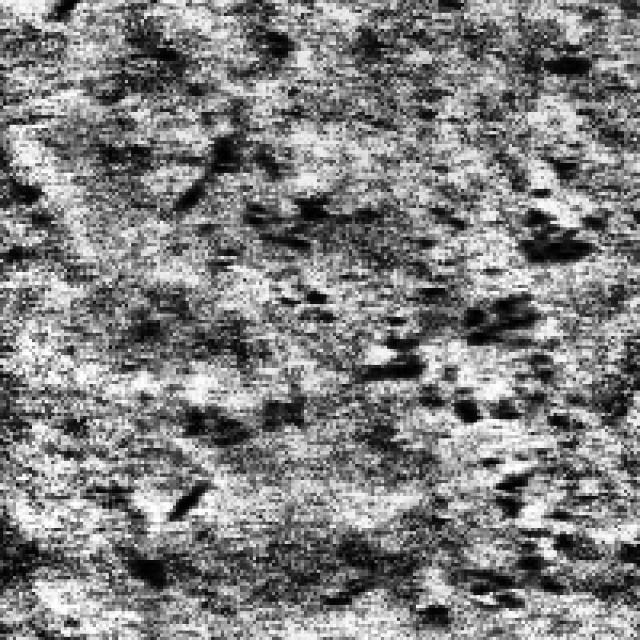Crazing: (368, 118, 586, 618), (154, 115, 332, 474)
